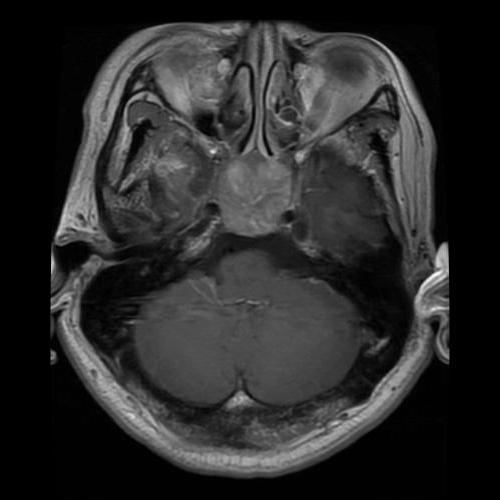Tumour-Pituitary: (197, 151, 315, 241)
